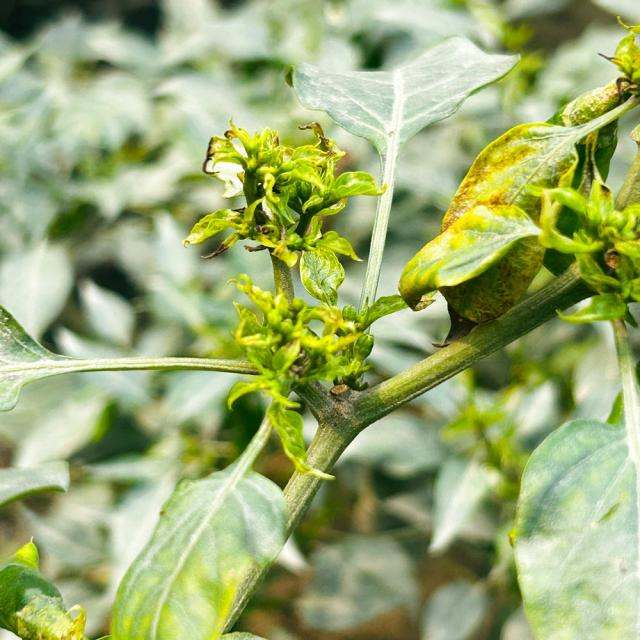Chilli_Leaf_Curl: (1, 17, 638, 638), (288, 34, 521, 318), (397, 77, 636, 327), (182, 116, 386, 304), (107, 463, 292, 638), (223, 272, 374, 480), (0, 303, 268, 413), (508, 416, 639, 639), (397, 202, 545, 326), (536, 178, 639, 326), (0, 536, 87, 639)
